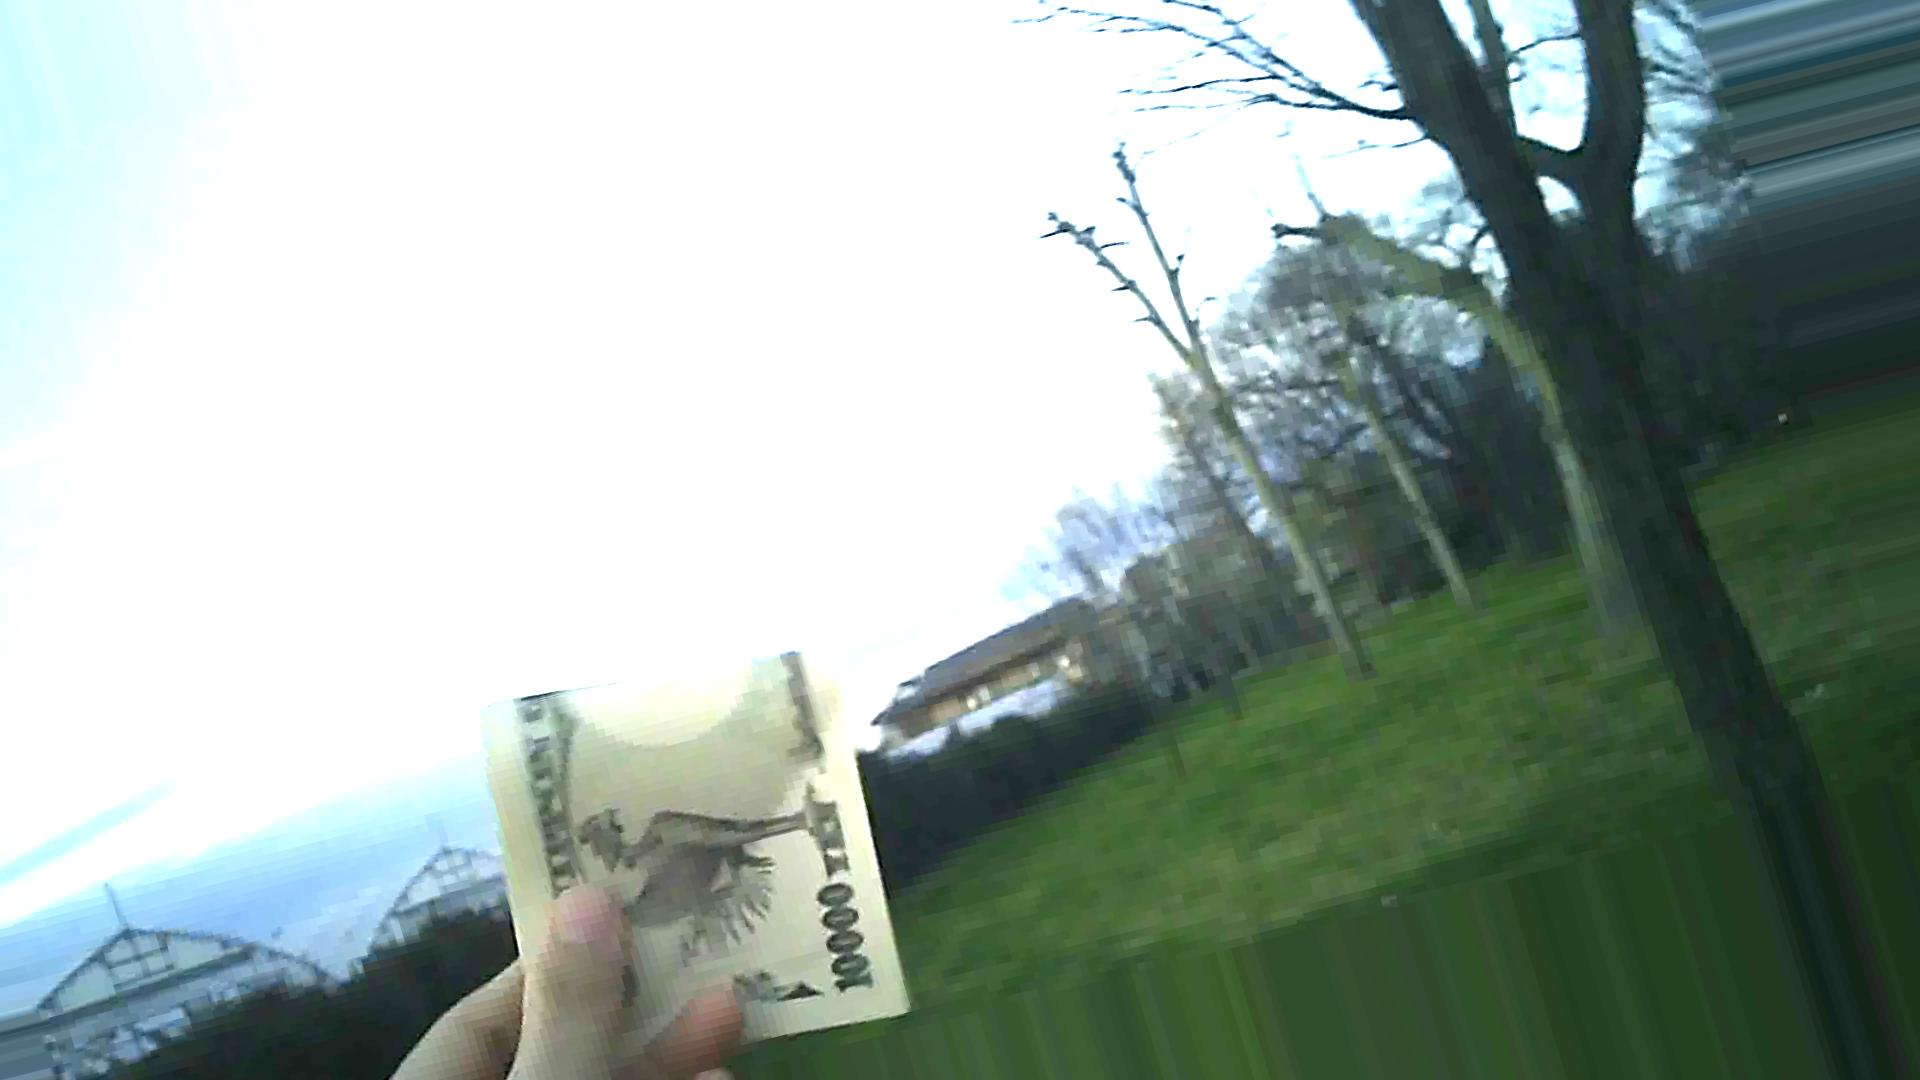10,000 Yen: (462, 629, 924, 1048)
